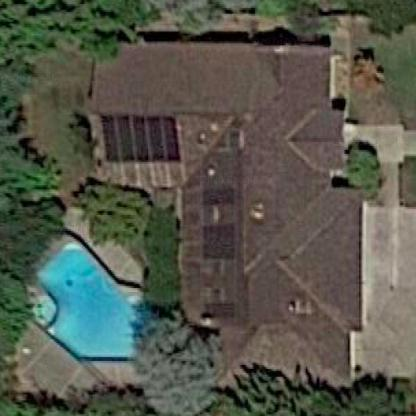solar_panel: (191, 174, 245, 324), (99, 103, 186, 174)
swimming_pool: (21, 226, 172, 372)
